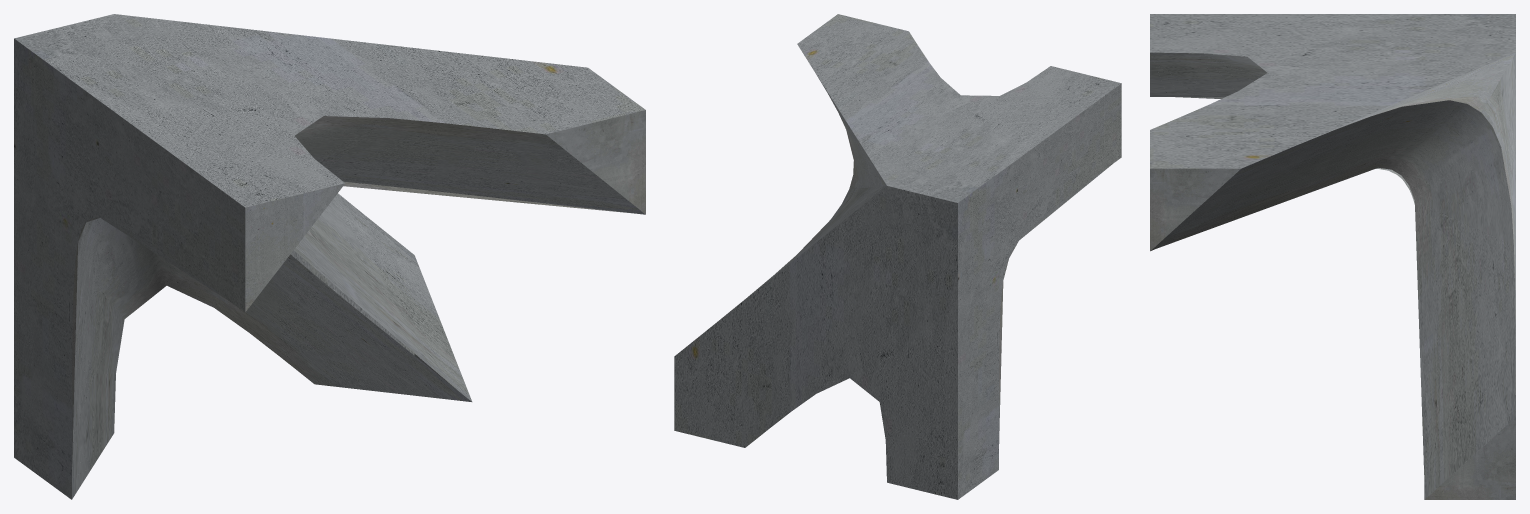
Rendered from module_O2.fbx.
3 views of the same model, side by side, from view 1: azimuth 30°, elevation 25°; view 2: azimuth 150°, elevation 25°; view 3: azimuth 270°, elevation 25° (orthographic). The views are drawn at different scales.
Parts seen in each view (by area): view 1: modules; view 2: modules; view 3: modules.
Part boxes in pixels (<box>): modules: <box>14,14,645,499</box>; modules: <box>674,14,1121,499</box>; modules: <box>1150,14,1515,499</box>.
Size of the model in its own units: 1000 by 1000 by 1000.
1 material, 1 textured.
